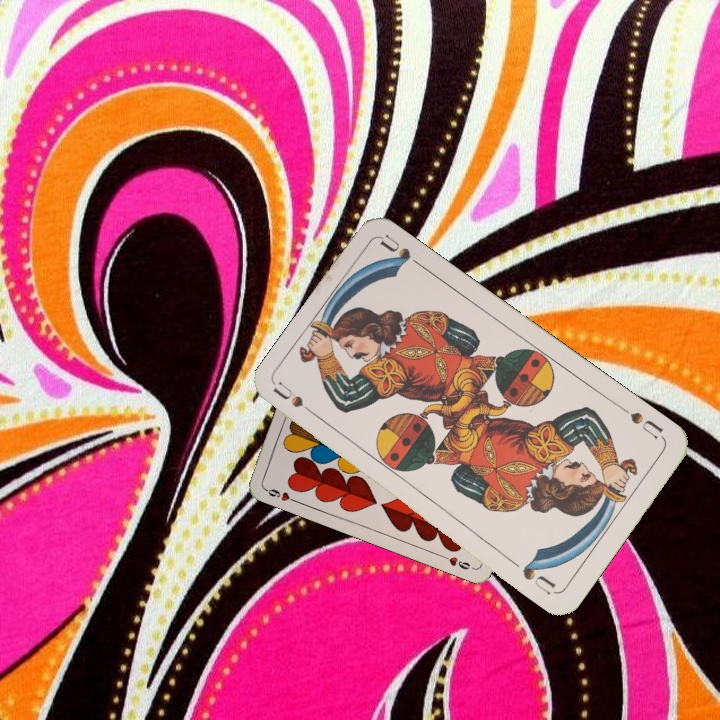H9: (260, 484, 300, 505)
SU: (271, 380, 324, 423), (616, 401, 666, 442)
